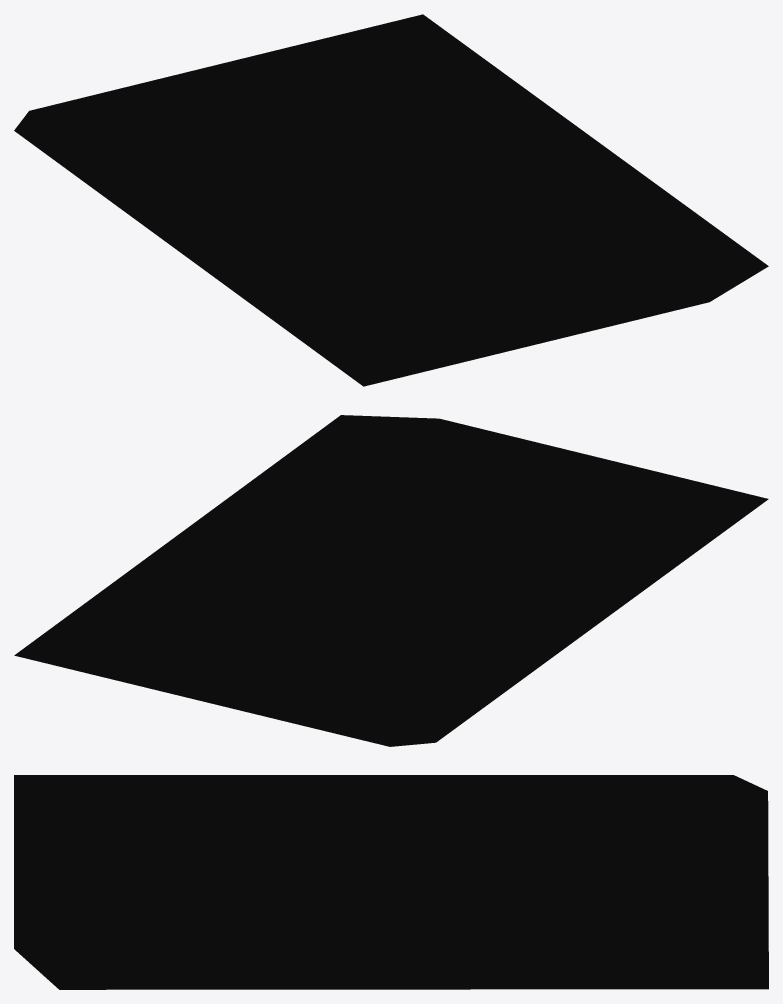
The picture shows the model from 3 angles, top to bottom: view 1: azimuth 30°, elevation 25°; view 2: azimuth 150°, elevation 25°; view 3: azimuth 270°, elevation 25°; orthographic projection. The views are drawn at different scales.
Parts seen in each view (by area): view 1: Joint_0_Object_0; view 2: Joint_0_Object_0; view 3: Joint_0_Object_0.
Boxes of the visible parts, bbox=[...] form: Joint_0_Object_0: bbox=[14, 14, 768, 386]; Joint_0_Object_0: bbox=[14, 415, 768, 746]; Joint_0_Object_0: bbox=[14, 775, 768, 989].
Bounding box in the file's own units: 327 × 0 × 486.
1 material, 1 textured.
